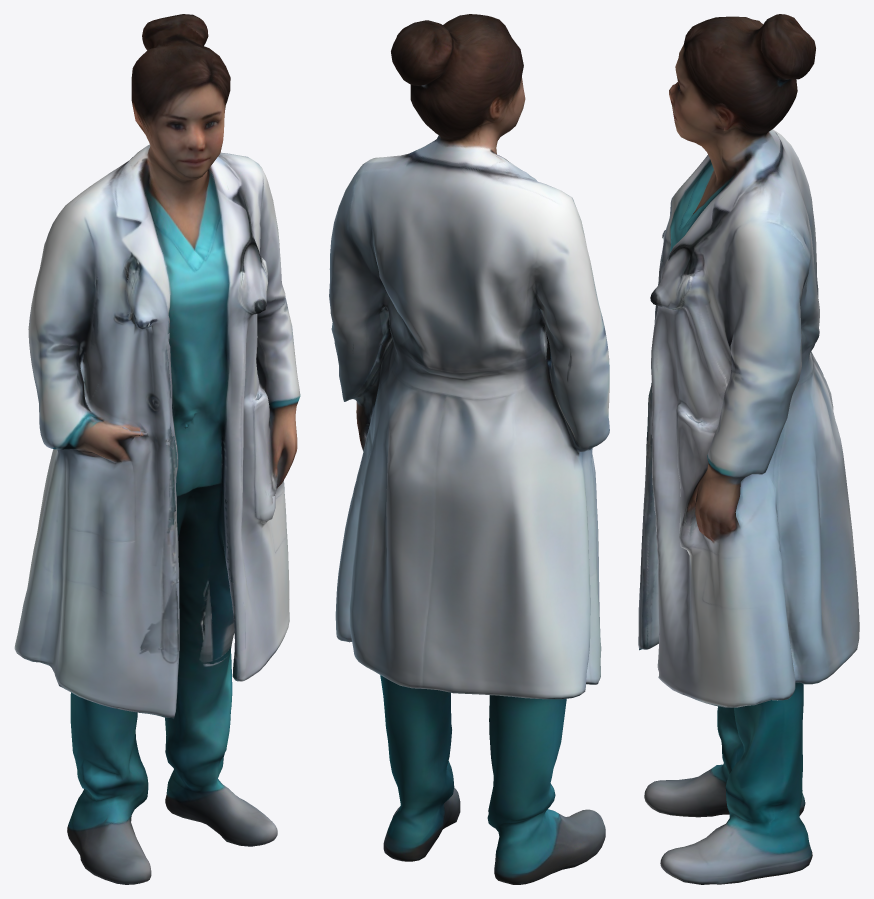
The model's file is female.glb.
3 renders of one model, left to right at view 1: azimuth 30°, elevation 25°; view 2: azimuth 150°, elevation 25°; view 3: azimuth 270°, elevation 25°, orthographic. The views are drawn at different scales.
Bounding box in the file's own units: 0.6591 × 2 × 0.4782.
Materials: 1 (1 with a texture image).
